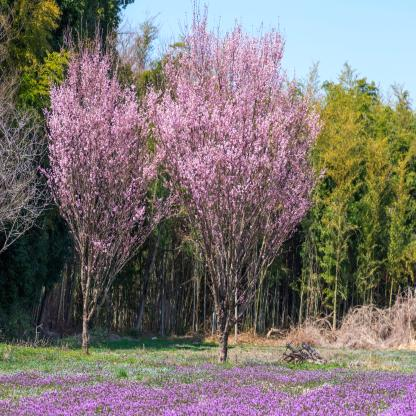Momo: (160, 0, 330, 330), (39, 11, 190, 293)
